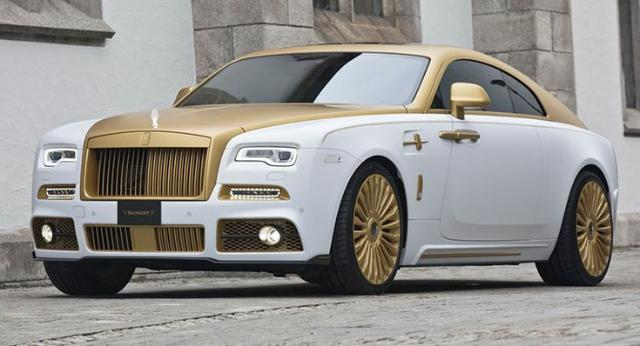rolls-royce: (29, 43, 619, 296)
